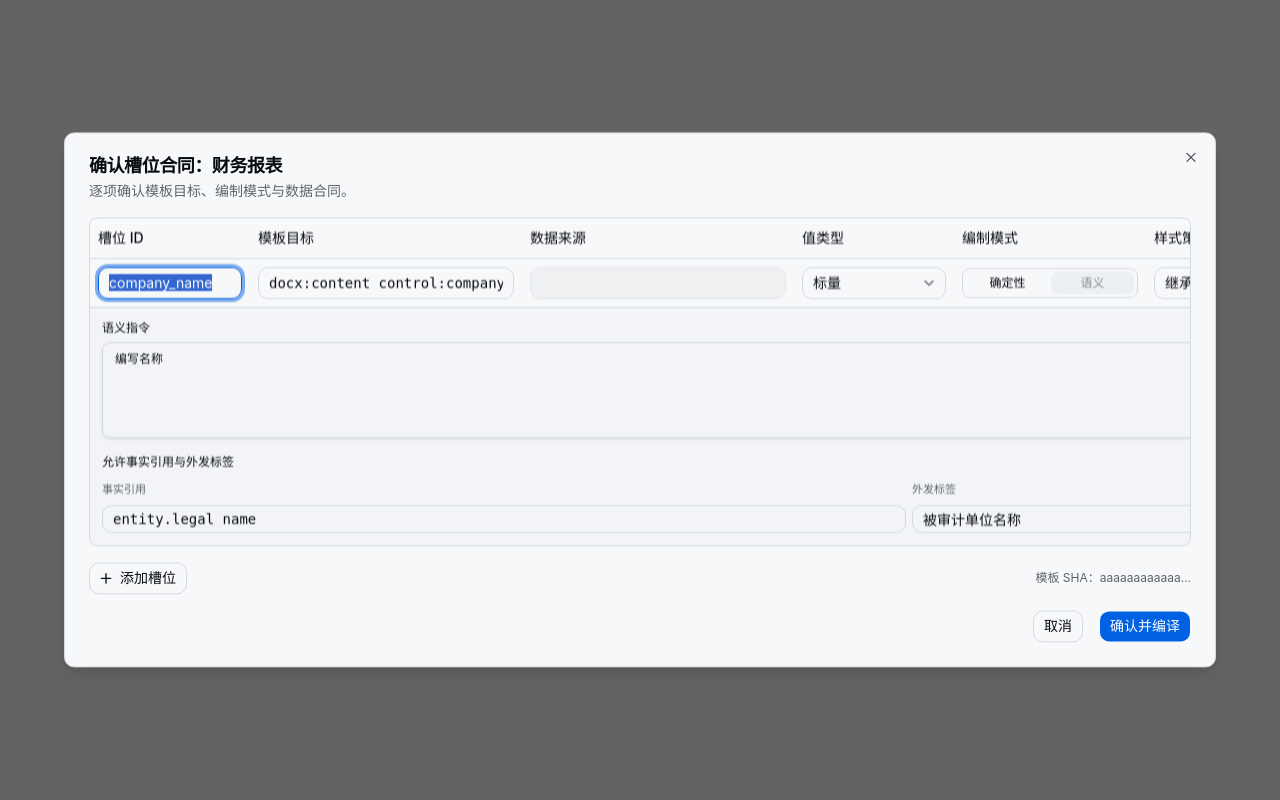
Scenario: Attachment template binding options › allows semantic composition only for narrative block slots
This screenshot has width=1280, height=800.
Expected: the button with aria-label "槽位 1 语义编制" is disabled, [1050,271,1135,295]
Click the button "确认并编译" at x=1145, y=627, box [1099,611,1191,643]
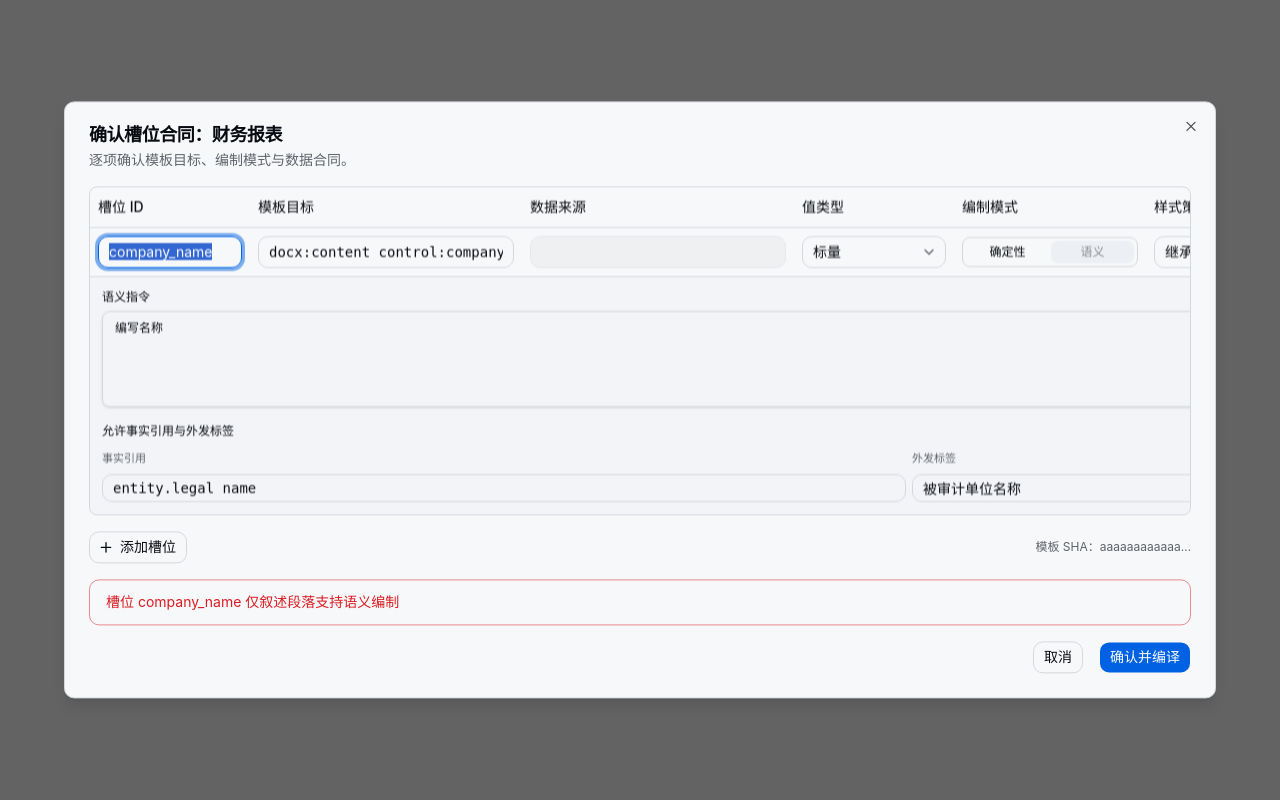
Now the text "槽位 company_name 仅叙述段落支持语义编制" is shown, box [106,593,399,613]
